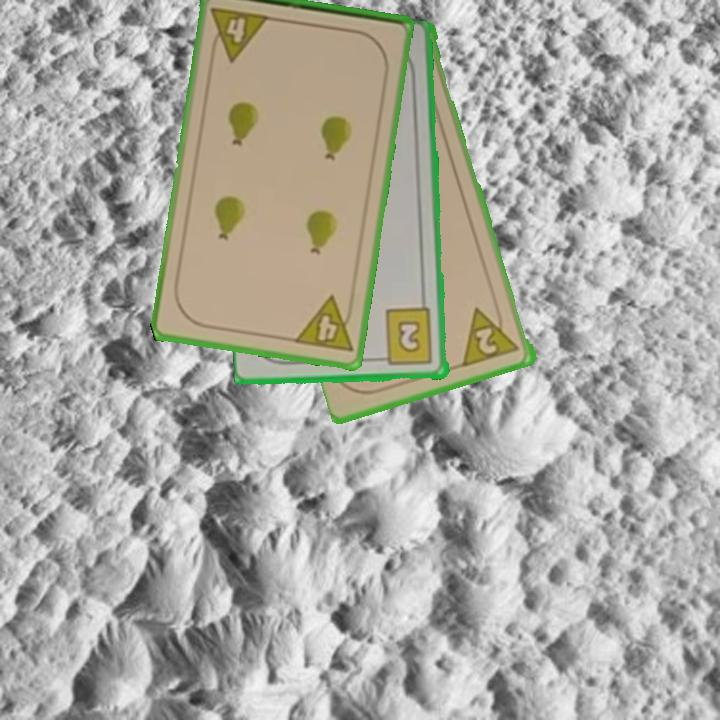2b: (375, 306, 436, 369)
2p: (460, 299, 523, 370)
4p: (290, 292, 358, 356), (207, 4, 273, 64)
